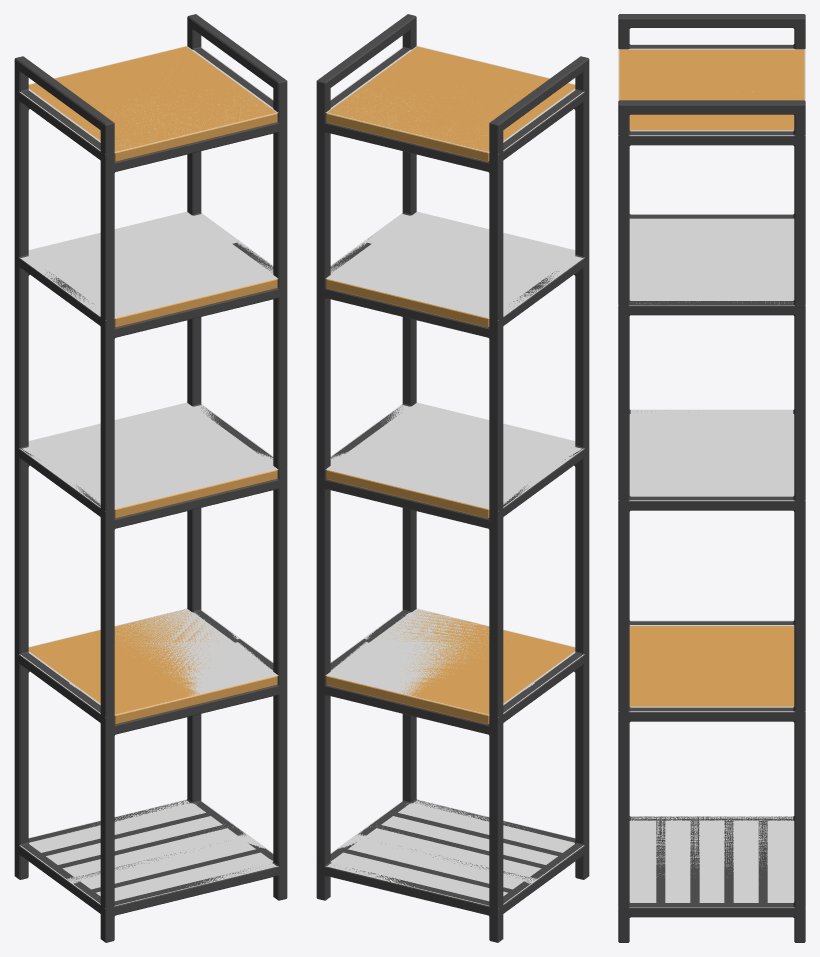
File: iron-frame-shelf-v.glb
3 views of the same model, side by side, from view 1: azimuth 30°, elevation 25°; view 2: azimuth 150°, elevation 25°; view 3: azimuth 270°, elevation 25° (orthographic). The views are drawn at different scales.
Visible parts, largest first — view 1: Frame, __TOP__Plane.002, __TOP__Plane.001, Board.004, __TOP__Plane.004, Board, __TOP__Plane, Board.002, Board.003, __TOP__Plane.003; view 2: Frame, __TOP__Plane.002, __TOP__Plane.001, Board.004, __TOP__Plane.004, Board, __TOP__Plane, Board.002, Board.003, __TOP__Plane.003; view 3: Frame, __TOP__Plane.001, __TOP__Plane.002, Board, __TOP__Plane.004, Board.004, __TOP__Plane.003, __TOP__Plane.
Part boxes in pixels (bbox=[...]): Frame: bbox=[14, 14, 287, 942]; __TOP__Plane.002: bbox=[14, 211, 287, 320]; __TOP__Plane.001: bbox=[19, 402, 287, 511]; Board.004: bbox=[28, 46, 277, 161]; __TOP__Plane.004: bbox=[14, 799, 278, 908]; Board: bbox=[28, 609, 277, 724]; __TOP__Plane: bbox=[19, 608, 287, 717]; Board.002: bbox=[114, 469, 277, 518]; Board.003: bbox=[114, 279, 277, 327]; __TOP__Plane.003: bbox=[19, 46, 287, 154]; Frame: bbox=[316, 14, 589, 942]; __TOP__Plane.002: bbox=[316, 211, 589, 320]; __TOP__Plane.001: bbox=[316, 402, 584, 511]; Board.004: bbox=[326, 46, 575, 161]; __TOP__Plane.004: bbox=[325, 799, 589, 908]; Board: bbox=[326, 610, 575, 724]; __TOP__Plane: bbox=[316, 608, 584, 717]; Board.002: bbox=[326, 469, 489, 518]; Board.003: bbox=[326, 279, 489, 327]; __TOP__Plane.003: bbox=[316, 46, 584, 154]; Frame: bbox=[618, 14, 805, 942]; __TOP__Plane.001: bbox=[618, 409, 805, 500]; __TOP__Plane.002: bbox=[618, 214, 805, 305]; Board: bbox=[629, 626, 794, 706]; __TOP__Plane.004: bbox=[629, 816, 794, 907]; Board.004: bbox=[619, 49, 804, 130]; __TOP__Plane.003: bbox=[618, 44, 805, 135]; __TOP__Plane: bbox=[618, 620, 805, 711].
Bounding box in the file's own units: 0.38 × 1.63 × 0.33.
